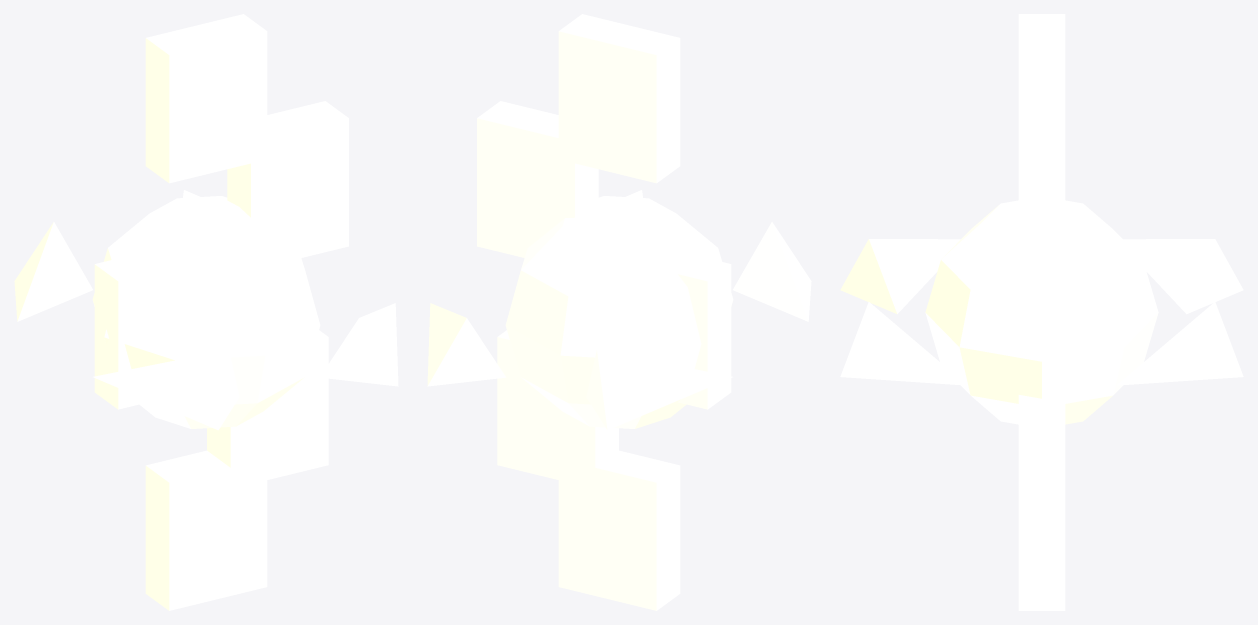
The model's file is enemy_lightning.glb.
3 renders of one model, left to right at view 1: azimuth 30°, elevation 25°; view 2: azimuth 150°, elevation 25°; view 3: azimuth 270°, elevation 25°, orthographic.
Parts seen in each view (by area): view 1: enemy_lightning; view 2: enemy_lightning; view 3: enemy_lightning.
Part boxes in pixels (x1,y1,x2,y2): enemy_lightning: (14, 14, 398, 610); enemy_lightning: (427, 14, 811, 610); enemy_lightning: (840, 14, 1243, 610).
Size of the model in its own units: 0.297 by 0.52 by 0.346.
